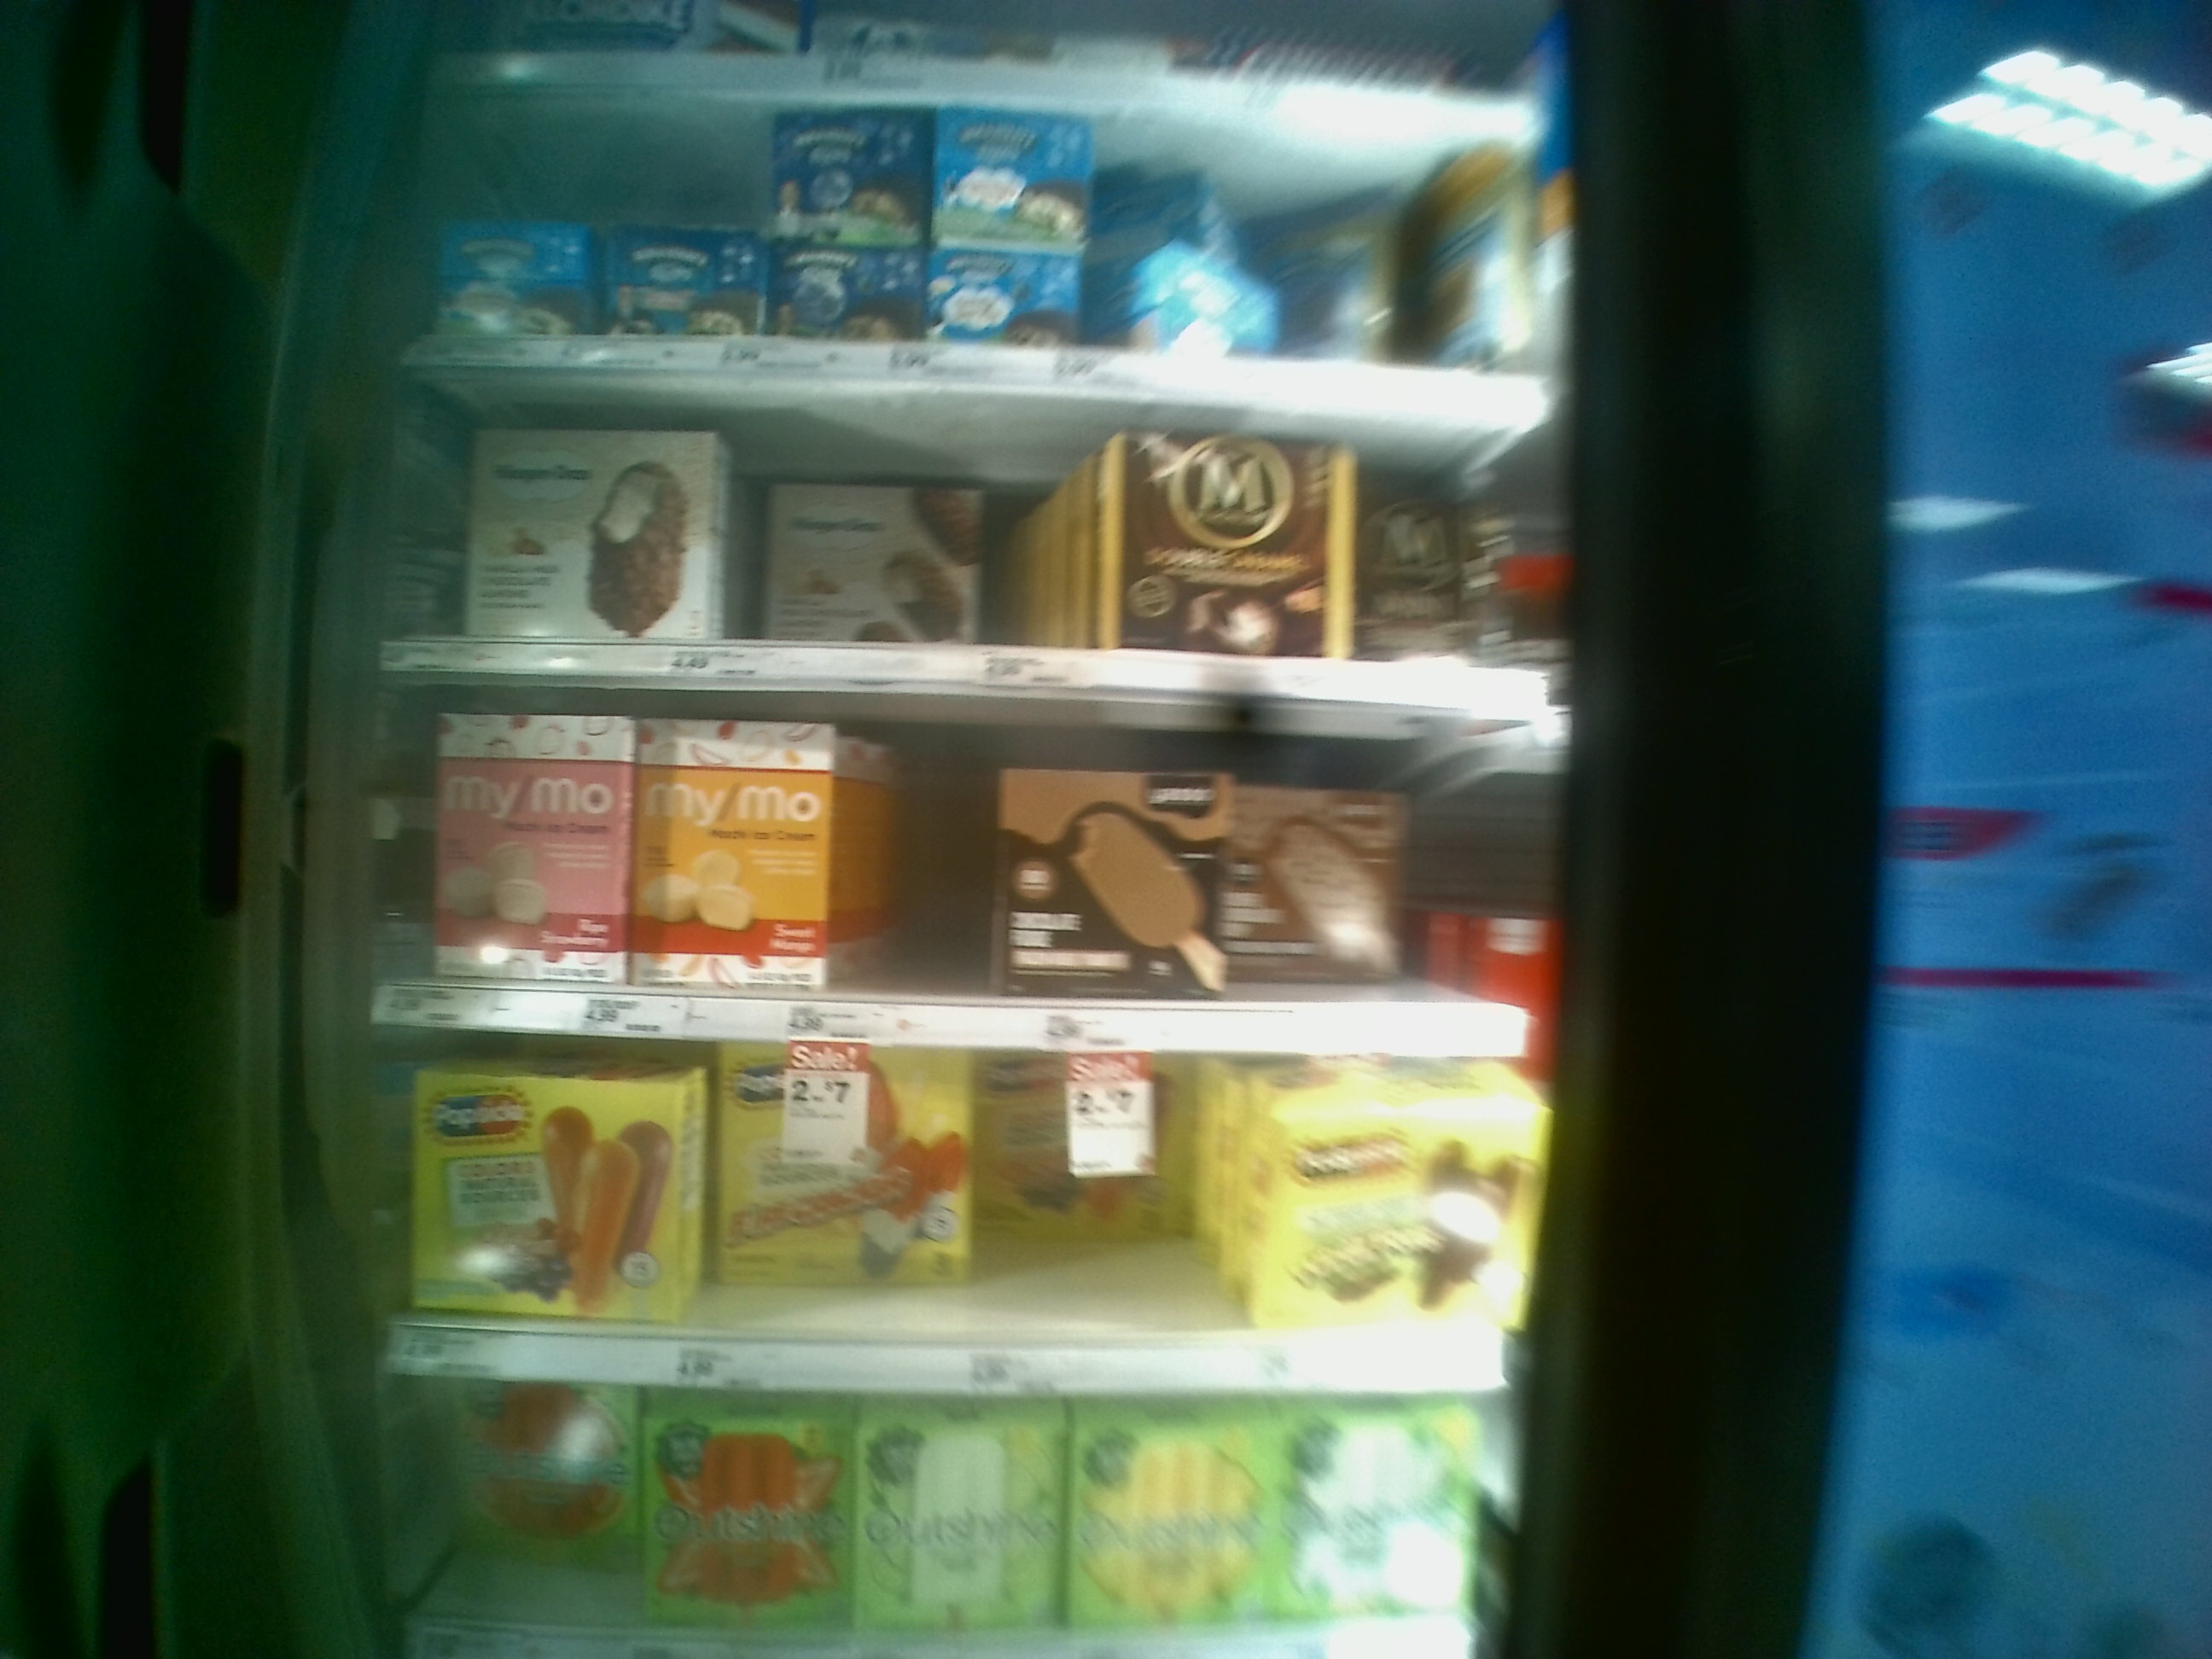ice-cream-shelf: (374, 1030, 1521, 1391), (371, 694, 1543, 1042), (371, 369, 1576, 694)
